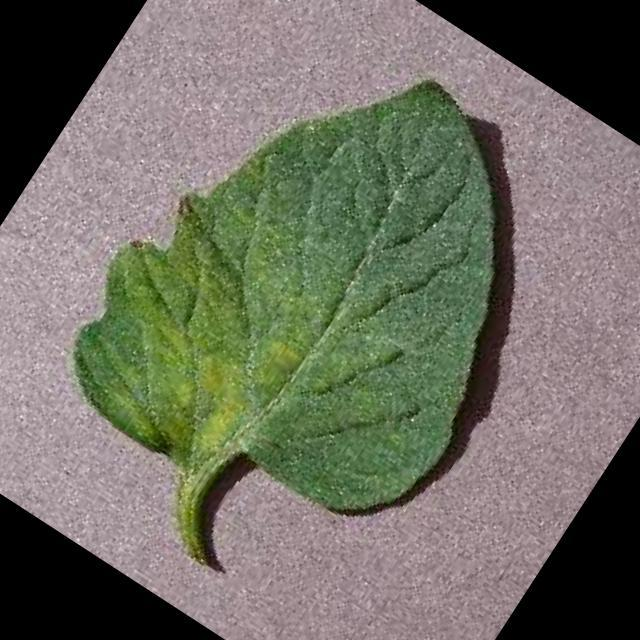Tomato spider mites leaf: (36, 0, 611, 584)
